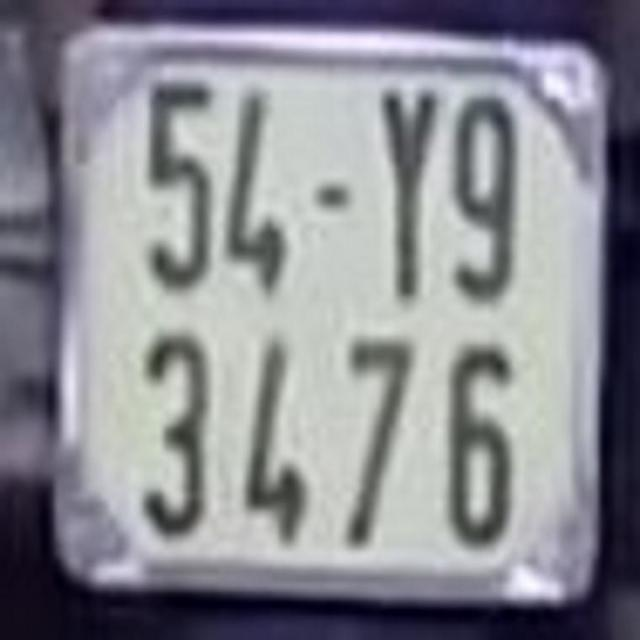3: (144, 331, 212, 536)
4: (246, 341, 309, 546), (229, 88, 289, 298)
5: (146, 83, 216, 295)
6: (441, 343, 512, 546)
7: (337, 336, 414, 547)
9: (446, 90, 520, 309)
Y: (372, 89, 438, 298)
